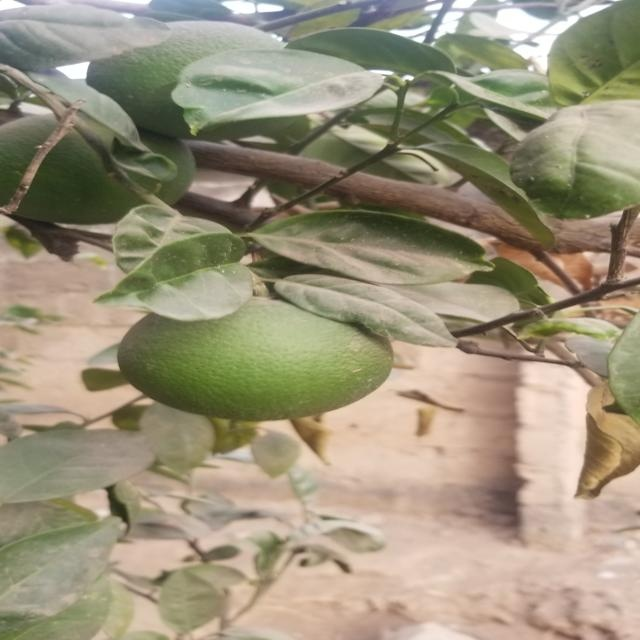agrume: (124, 303, 421, 418)
